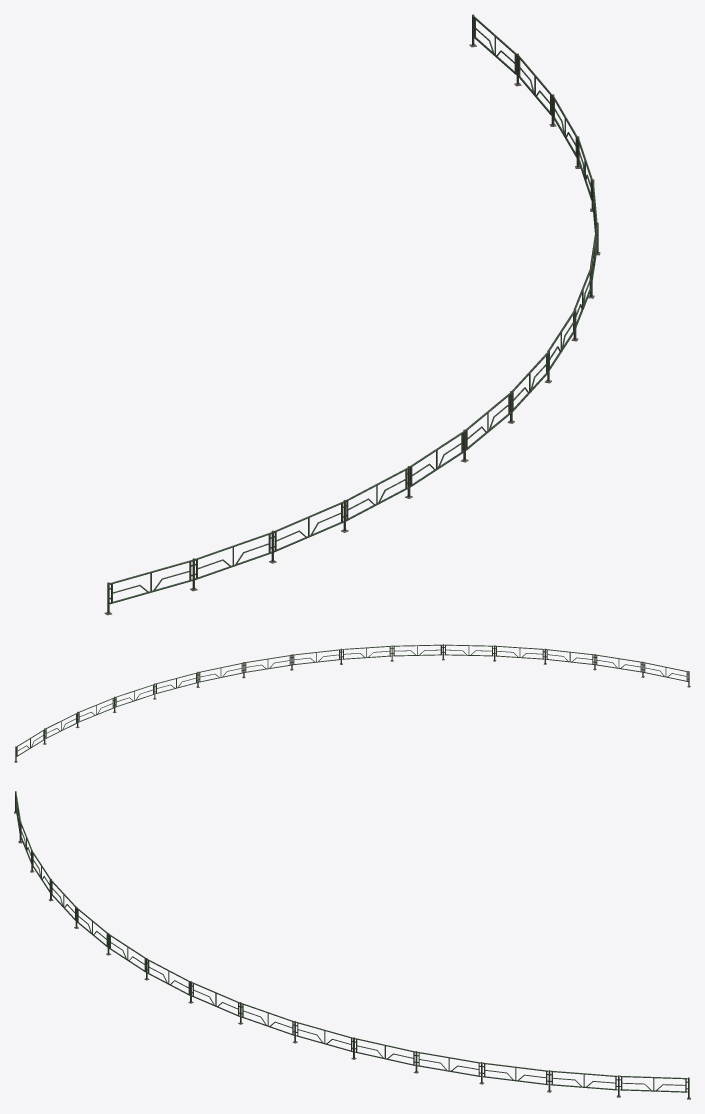
The model's file is jctGuardRailC.fbx.
3 renders of one model, top to bottom at view 1: azimuth 30°, elevation 25°; view 2: azimuth 150°, elevation 25°; view 3: azimuth 270°, elevation 25°, orthographic. The views are drawn at different scales.
Visible parts, largest first — view 1: jctGuardRailC; view 2: jctGuardRailC; view 3: jctGuardRailC.
Boxes of the visible parts, bbox=[...] form: jctGuardRailC: bbox=[104, 14, 600, 615]; jctGuardRailC: bbox=[14, 644, 690, 762]; jctGuardRailC: bbox=[14, 791, 690, 1099].
Size of the model in its own units: 1937 by 66.5 by 1925.
